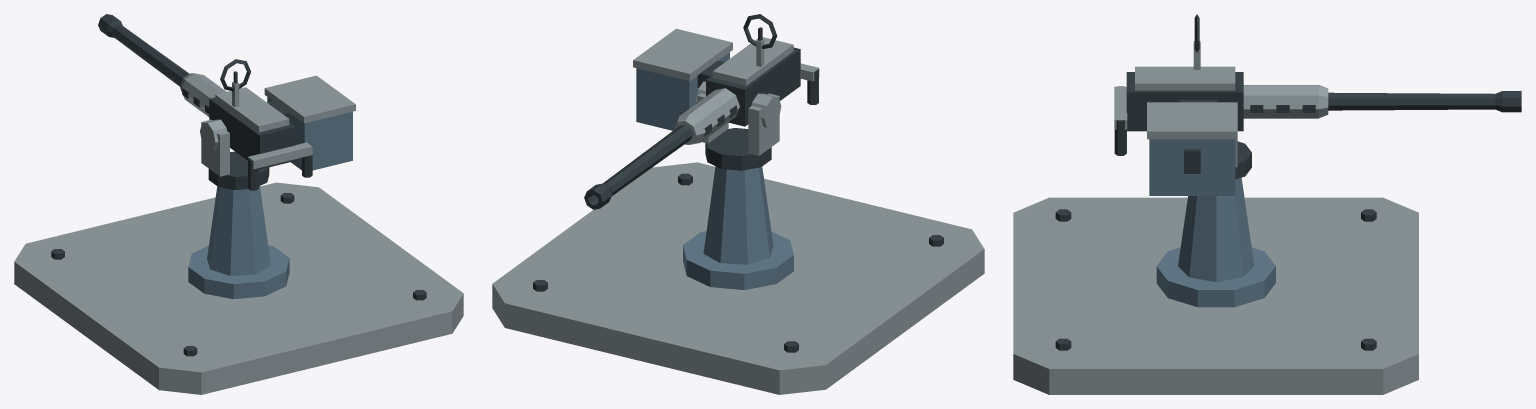
Rendered from MOD_MultipurposeMG_L1.fbx.
3 views of the same model, side by side, from view 1: azimuth 30°, elevation 25°; view 2: azimuth 150°, elevation 25°; view 3: azimuth 270°, elevation 25° (orthographic). The views are drawn at different scales.
Parts seen in each view (by area): view 1: MOD_MultipurposeMG_L1_Visual, ElevationPivot_Visual, TurretPivot_Visual; view 2: MOD_MultipurposeMG_L1_Visual, ElevationPivot_Visual, TurretPivot_Visual; view 3: MOD_MultipurposeMG_L1_Visual, ElevationPivot_Visual.
Part boxes in pixels (<box>): MOD_MultipurposeMG_L1_Visual: <box>14,151,463,394</box>; ElevationPivot_Visual: <box>98,14,355,190</box>; TurretPivot_Visual: <box>200,119,229,176</box>; MOD_MultipurposeMG_L1_Visual: <box>492,128,984,394</box>; ElevationPivot_Visual: <box>584,14,819,209</box>; TurretPivot_Visual: <box>695,81,781,155</box>; MOD_MultipurposeMG_L1_Visual: <box>1013,141,1418,394</box>; ElevationPivot_Visual: <box>1114,14,1521,195</box>.
Size of the model in its own units: 170 by 133 by 213.
